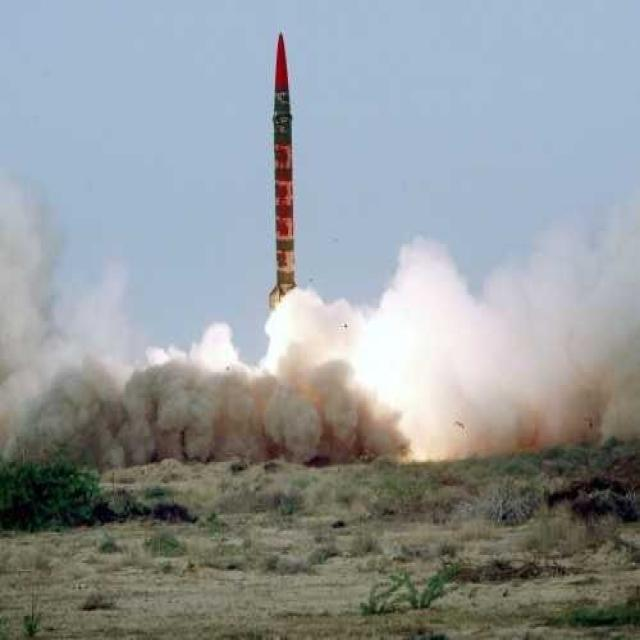missile: (268, 28, 303, 306)
